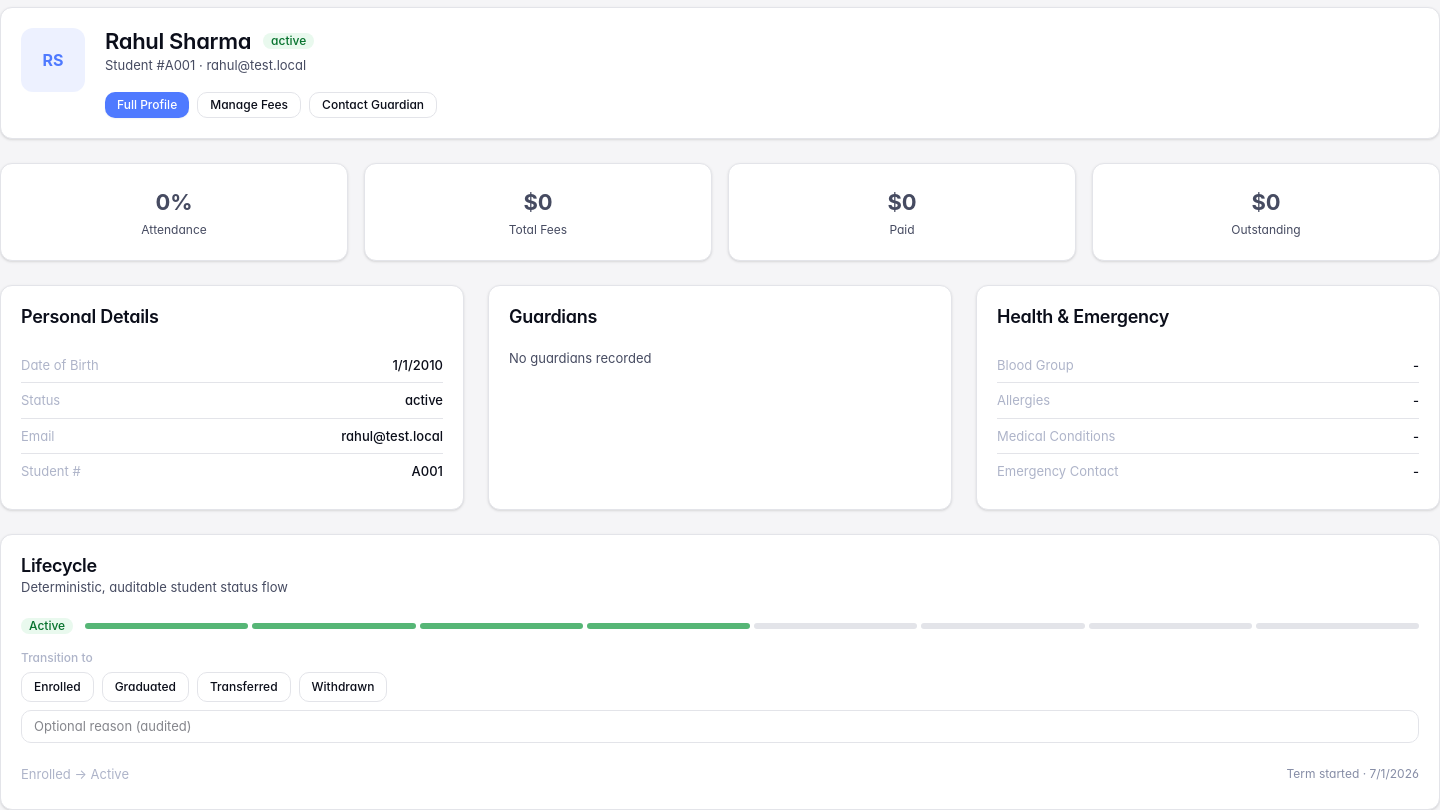
Scenario: Student 360 page — lifecycle & documents › performs a lifecycle transition and refetches the 360
(page scrolled)
Expected: the heading "Lifecycle" is shown, [21,555,97,576]
Click the button "Graduated".
click(145, 687)  # box [102,672,189,702]
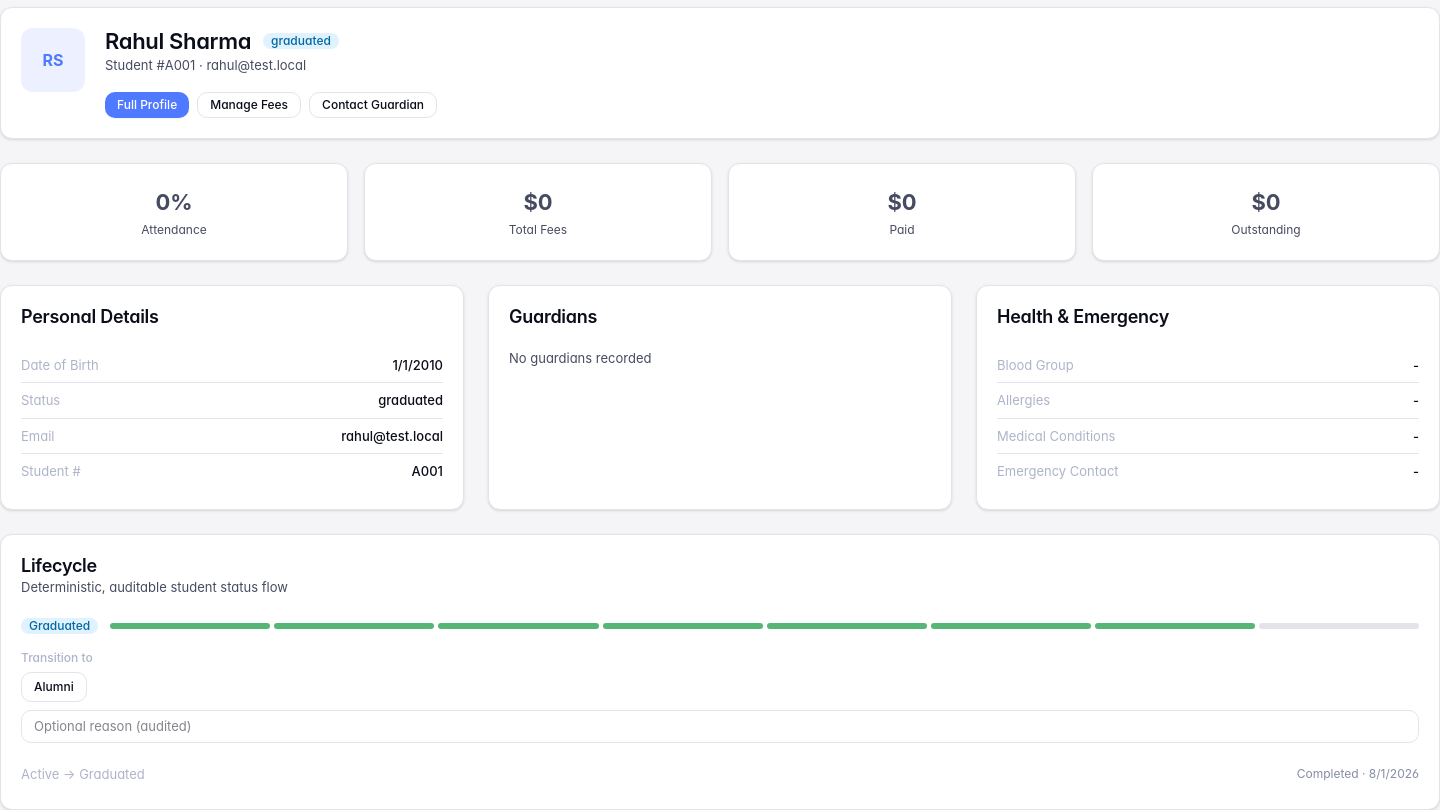
Expected: the text "Completed · 8/1/2026" is shown, [1297,766,1419,782]
